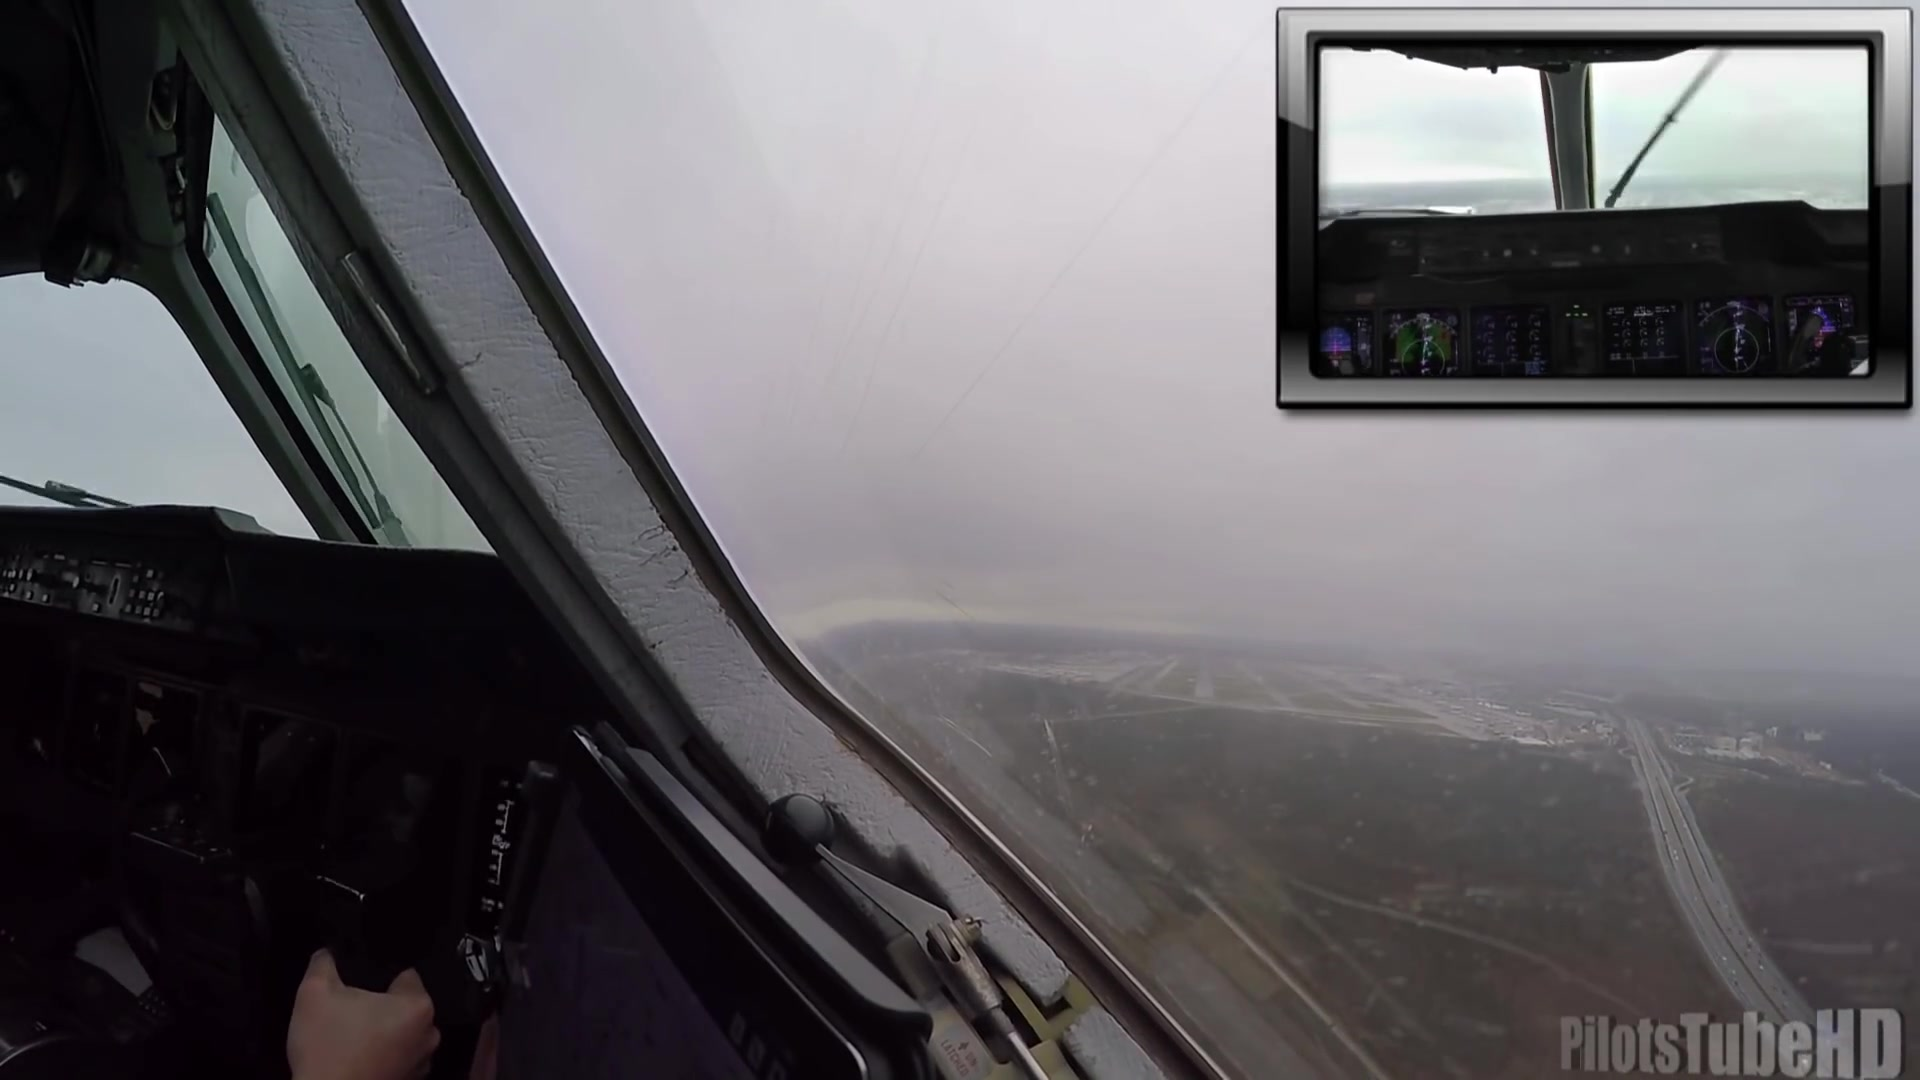runway: (1193, 649, 1215, 699)
